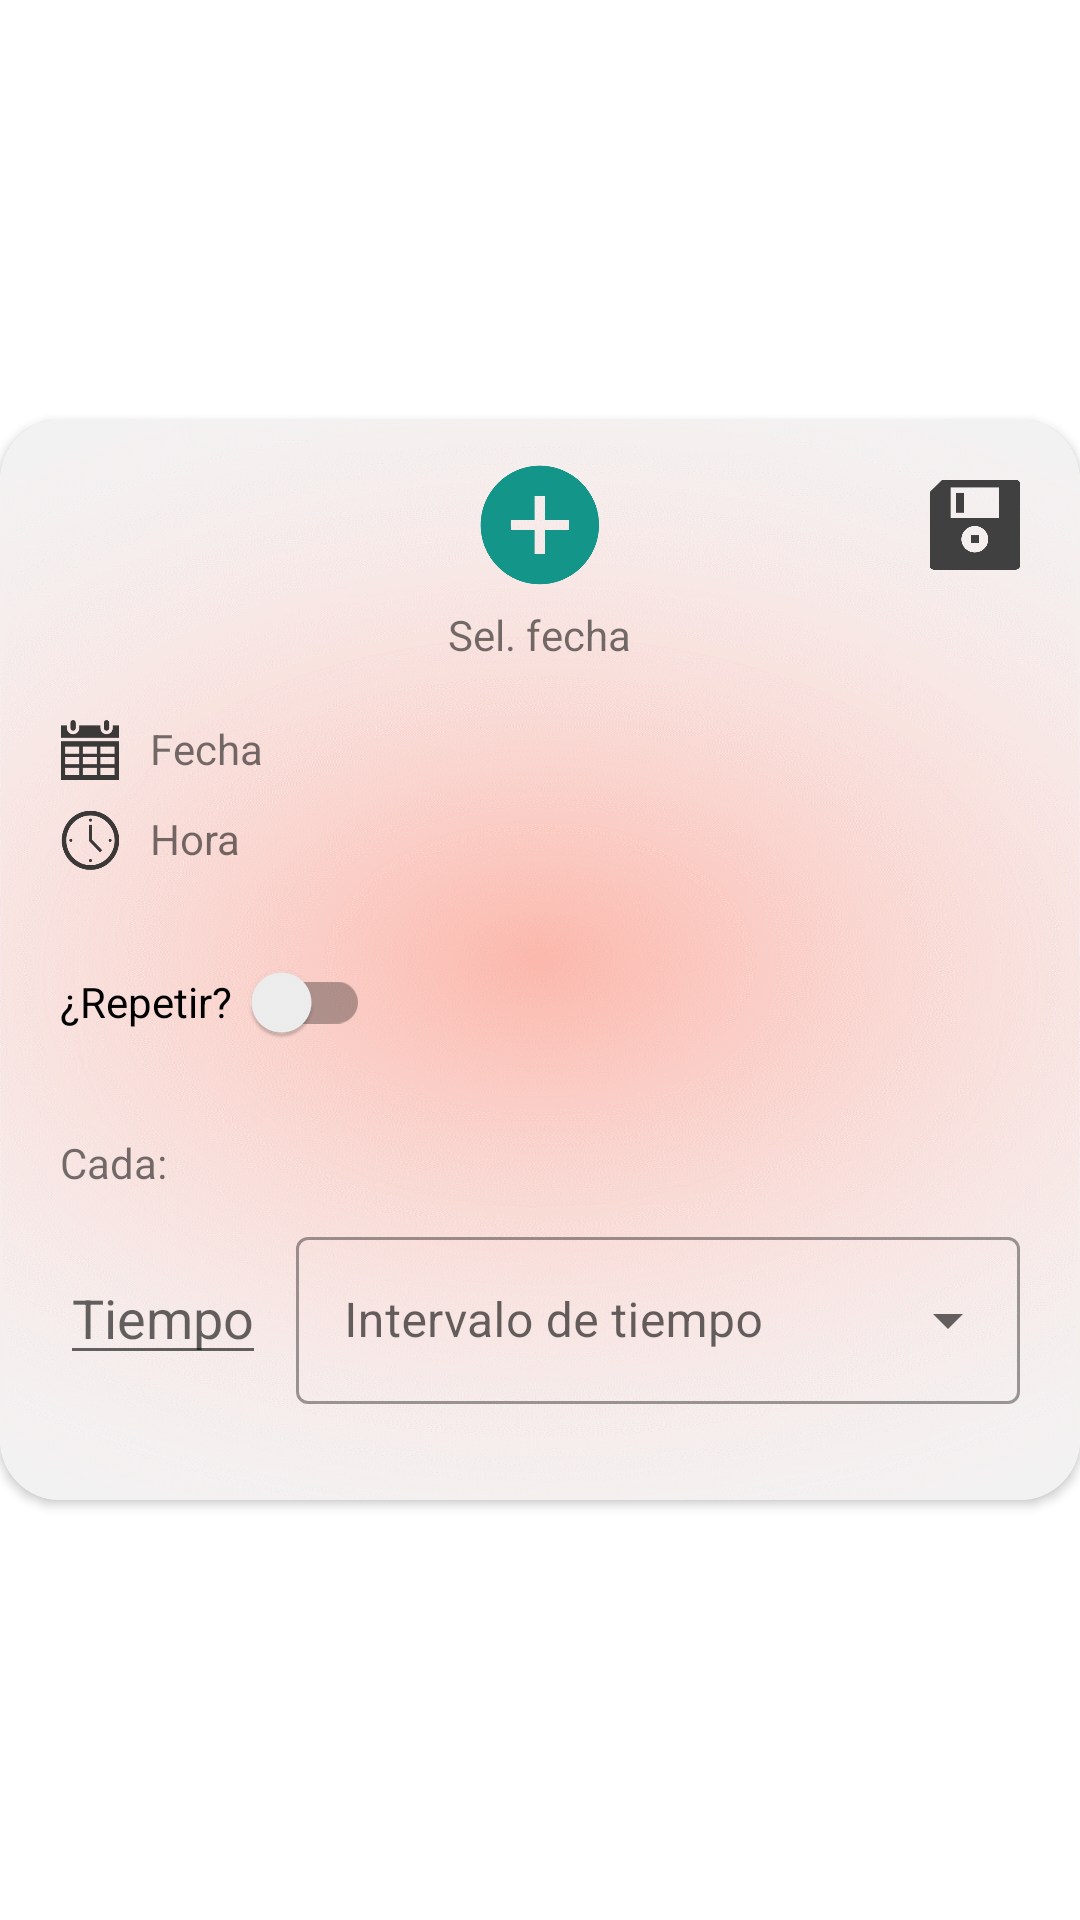

Named icons in this screenshot (1080x1920) and their bounding boxes, Rect(x1, y1, x2, y2):
agregar: Rect(480, 465, 599, 585)
guardar: Rect(930, 480, 1020, 570)
